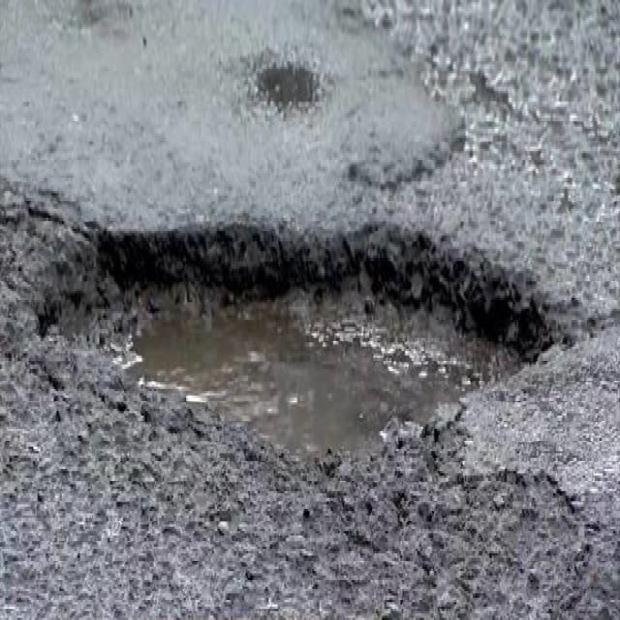lubang: (0, 196, 550, 451)
